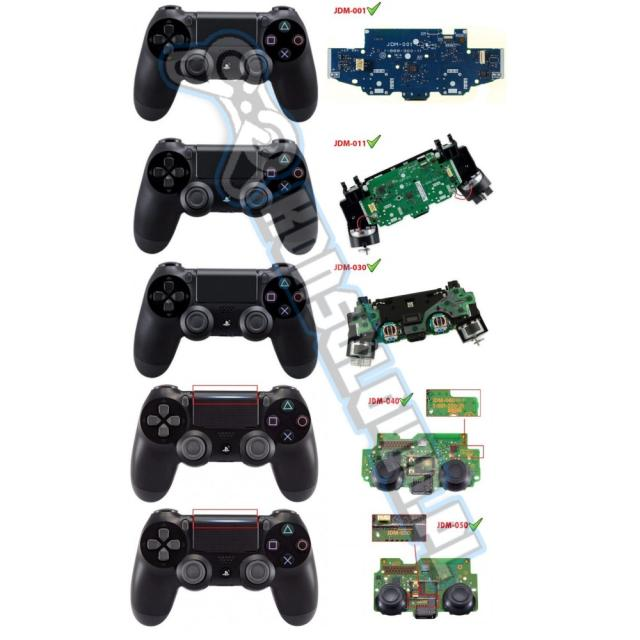ps4_controller: (126, 0, 352, 140)
